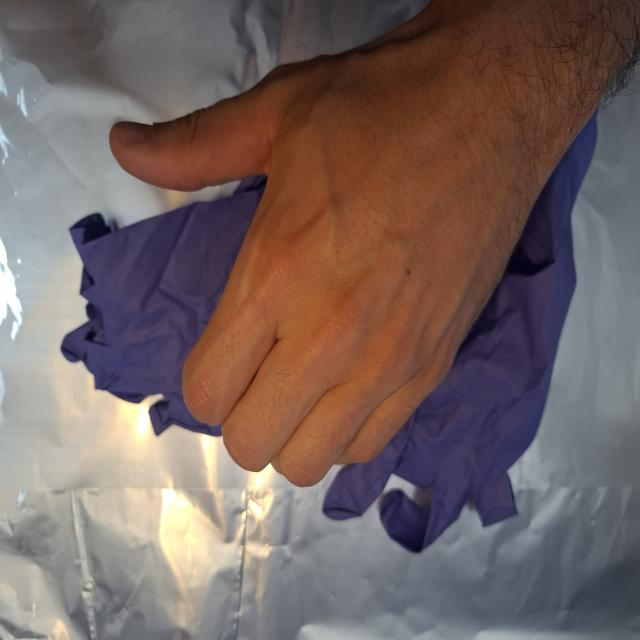glove_off: (108, 2, 550, 492)
